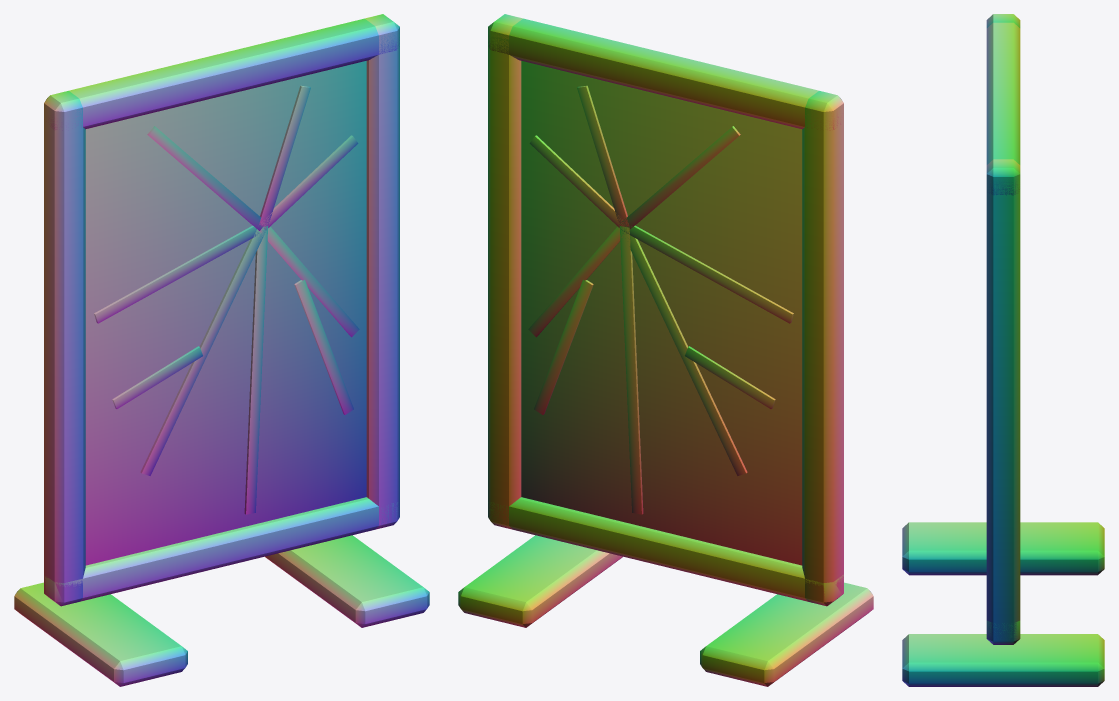
The model's file is mirror.fbx.
The picture shows the model from 3 angles, left to right: view 1: azimuth 30°, elevation 25°; view 2: azimuth 150°, elevation 25°; view 3: azimuth 270°, elevation 25°; orthographic projection. The views are drawn at different scales.
Parts seen in each view (by area): view 1: mirror; view 2: mirror; view 3: mirror.
Boxes of the visible parts, left/top/right/bottom form: mirror: left=14, top=14, right=429, bottom=686; mirror: left=458, top=14, right=873, bottom=686; mirror: left=902, top=14, right=1104, bottom=686.
Bounding box in the file's own units: 0.56 × 0.86 × 0.3.
